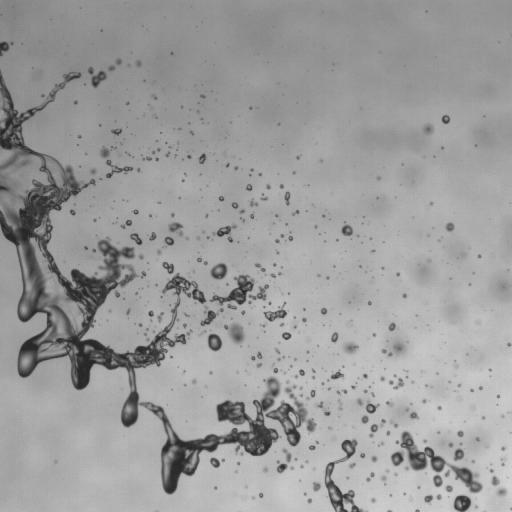droplet: (99, 147, 132, 178), (224, 323, 245, 345), (200, 306, 223, 326), (213, 224, 236, 242), (88, 67, 106, 87), (453, 494, 471, 511), (210, 262, 227, 279), (207, 333, 222, 351), (168, 222, 183, 236), (343, 342, 358, 354), (365, 401, 379, 413), (0, 41, 11, 56), (389, 378, 404, 389), (341, 223, 352, 235), (130, 233, 142, 244), (162, 261, 173, 273), (453, 448, 464, 460), (210, 457, 223, 467), (330, 370, 344, 379), (423, 123, 433, 134), (394, 344, 405, 353), (445, 222, 454, 231), (164, 236, 173, 245), (388, 322, 397, 331), (312, 482, 321, 491), (424, 494, 433, 503), (121, 220, 131, 228), (497, 487, 507, 495), (111, 128, 122, 135), (198, 154, 206, 163), (491, 476, 499, 485), (331, 332, 338, 342), (441, 115, 449, 123), (249, 199, 258, 206), (282, 332, 291, 339), (149, 232, 156, 240), (410, 412, 418, 419), (361, 415, 368, 423), (445, 485, 452, 492), (320, 308, 327, 314), (457, 430, 463, 437), (115, 59, 121, 65), (90, 168, 96, 174), (246, 184, 252, 190), (273, 367, 279, 373), (371, 456, 377, 462), (349, 462, 355, 468), (148, 310, 153, 317), (357, 398, 362, 405), (381, 476, 386, 483), (136, 60, 141, 66), (108, 65, 114, 70), (261, 195, 267, 200), (232, 202, 237, 208), (70, 209, 75, 215), (140, 271, 145, 277), (386, 401, 392, 406), (309, 445, 315, 450), (435, 494, 441, 499), (133, 209, 138, 214), (292, 324, 297, 329), (275, 348, 280, 353), (157, 249, 161, 255), (266, 184, 270, 189), (219, 196, 223, 201), (293, 210, 298, 214), (250, 213, 254, 218), (288, 235, 292, 240), (197, 257, 201, 262), (302, 317, 306, 322), (381, 349, 386, 353), (256, 363, 261, 367), (380, 376, 384, 381), (422, 398, 426, 403), (360, 453, 365, 457), (263, 467, 267, 472), (307, 498, 311, 503), (152, 95, 156, 99), (240, 209, 244, 213), (275, 239, 279, 243), (139, 255, 143, 259), (477, 254, 481, 258), (271, 273, 275, 277), (402, 293, 406, 297), (126, 309, 130, 313), (241, 310, 245, 314), (363, 374, 367, 378), (192, 379, 196, 383), (351, 385, 355, 389), (501, 446, 505, 450), (371, 498, 375, 502), (166, 152, 169, 156), (280, 184, 283, 188), (184, 313, 188, 316), (183, 323, 186, 327), (507, 343, 511, 346), (388, 352, 391, 356), (437, 406, 441, 409), (386, 431, 390, 434), (379, 442, 383, 445), (449, 443, 452, 447), (259, 493, 262, 497), (201, 94, 204, 97), (234, 166, 237, 169), (171, 213, 174, 216), (241, 218, 244, 221), (204, 261, 207, 264), (280, 323, 283, 326), (479, 386, 482, 389), (364, 389, 367, 392), (371, 393, 374, 396), (476, 437, 479, 440), (290, 466, 293, 469), (490, 469, 493, 472), (261, 324, 265, 326), (415, 509, 419, 511), (74, 101, 77, 103), (78, 135, 80, 138), (152, 151, 155, 153), (188, 155, 190, 158), (296, 156, 299, 158), (155, 158, 158, 160), (226, 163, 228, 166), (137, 169, 140, 171), (377, 177, 380, 179), (281, 234, 283, 237), (92, 249, 95, 251), (396, 273, 399, 275), (268, 302, 271, 304), (368, 302, 371, 304), (139, 323, 141, 326), (373, 333, 375, 336), (277, 358, 280, 360), (455, 364, 457, 367), (339, 407, 341, 410), (482, 416, 484, 419), (423, 440, 426, 442), (300, 465, 303, 467), (386, 469, 388, 472), (394, 473, 397, 475), (417, 486, 420, 488), (252, 496, 254, 499), (111, 147, 113, 149), (126, 152, 128, 154), (182, 179, 184, 181), (430, 202, 432, 204), (94, 219, 96, 221), (276, 251, 278, 253), (273, 263, 275, 265), (279, 272, 281, 274), (202, 331, 204, 333), (312, 376, 314, 378), (458, 384, 460, 386), (471, 389, 473, 391), (497, 395, 499, 397), (237, 462, 239, 464), (475, 505, 477, 507)
ligament: (0, 70, 316, 494), (390, 431, 482, 493), (324, 439, 366, 511), (210, 274, 268, 309), (264, 302, 287, 321), (276, 448, 292, 473), (369, 419, 385, 437), (315, 402, 330, 415), (294, 369, 304, 378), (306, 389, 315, 399), (251, 352, 262, 360), (255, 263, 264, 272), (284, 191, 290, 204), (366, 472, 374, 481), (157, 313, 163, 322), (390, 420, 397, 427), (337, 389, 346, 394), (143, 156, 151, 160), (501, 457, 505, 465), (387, 510, 392, 511)
